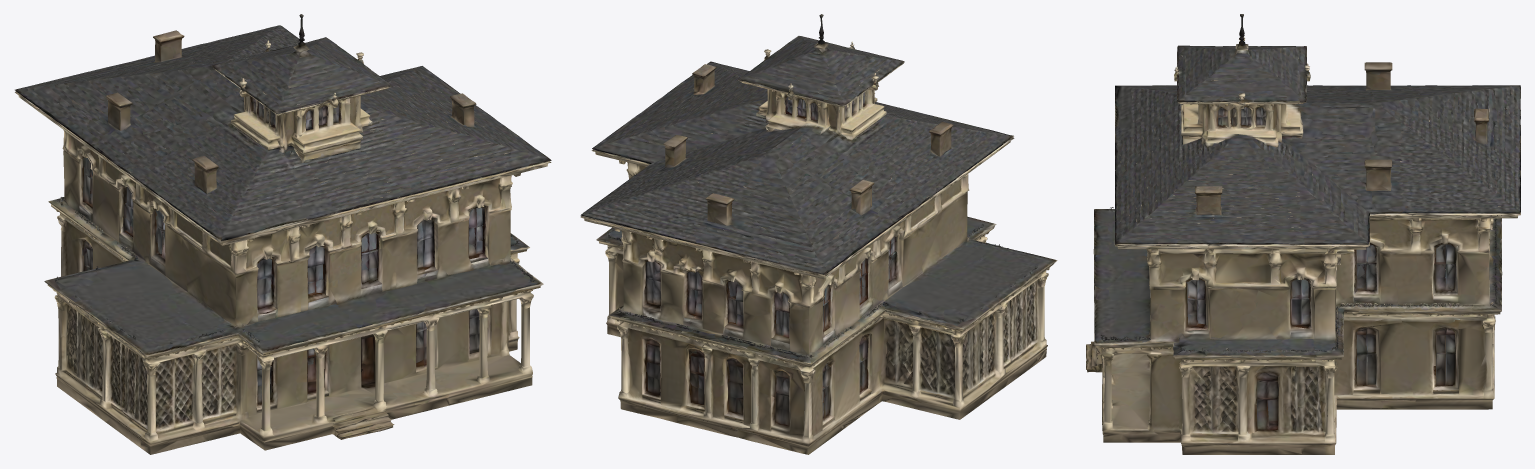
File: wade-sr.glb
3 views of the same model, side by side, from view 1: azimuth 30°, elevation 25°; view 2: azimuth 150°, elevation 25°; view 3: azimuth 270°, elevation 25° (orthographic). The views are drawn at different scales.
Parts seen in each view (by area): view 1: tripo_node_60605872-9c93-4aff-9af7-b3c815a8356a; view 2: tripo_node_60605872-9c93-4aff-9af7-b3c815a8356a; view 3: tripo_node_60605872-9c93-4aff-9af7-b3c815a8356a.
Boxes of the visible parts, x1,y1,x2,y2 form: tripo_node_60605872-9c93-4aff-9af7-b3c815a8356a: (15, 14, 551, 454); tripo_node_60605872-9c93-4aff-9af7-b3c815a8356a: (580, 14, 1057, 454); tripo_node_60605872-9c93-4aff-9af7-b3c815a8356a: (1086, 14, 1520, 454).
Bounding box in the file's own units: 0.9817 × 0.842 × 0.9409.
1 material, 1 textured.
